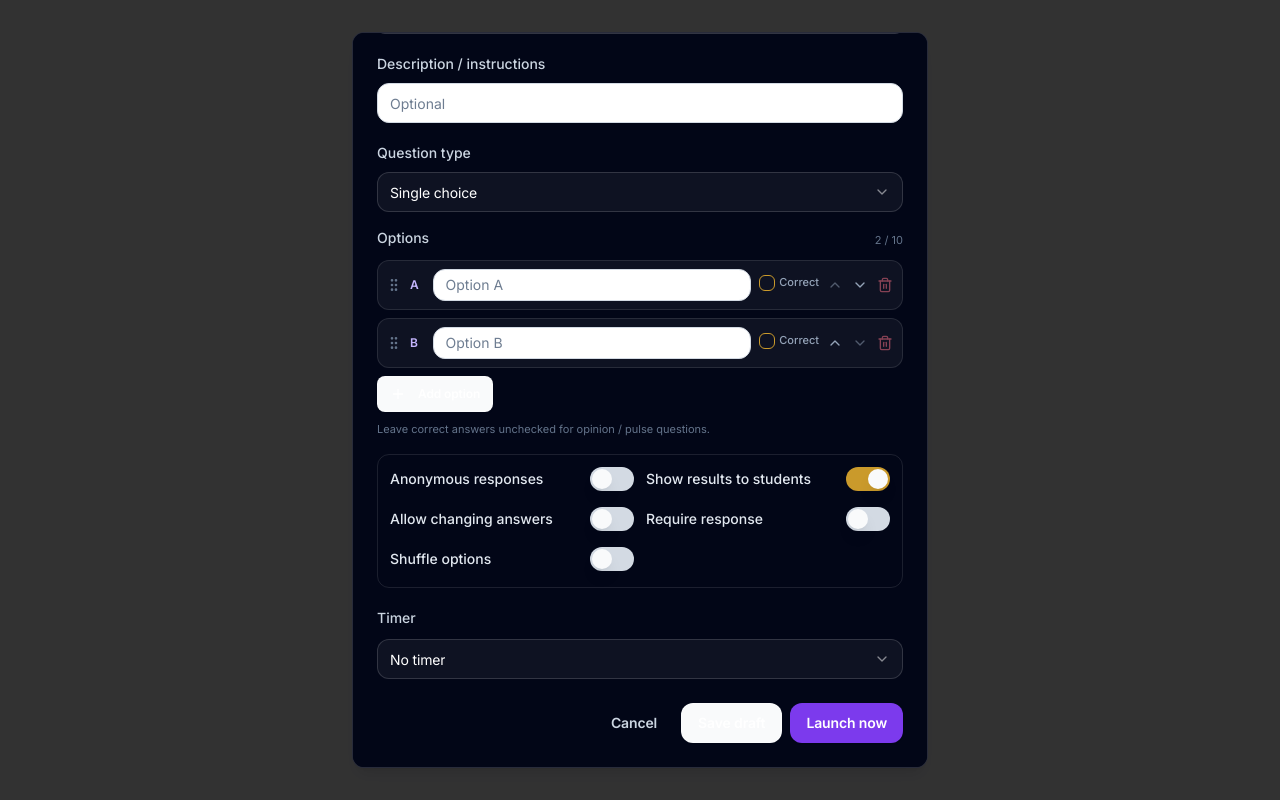
CreatePollDialog › shows an error for an empty question
(page scrolled)
Click the button "Save draft" at (732, 724), box x1=681 y1=704 x2=782 y2=744
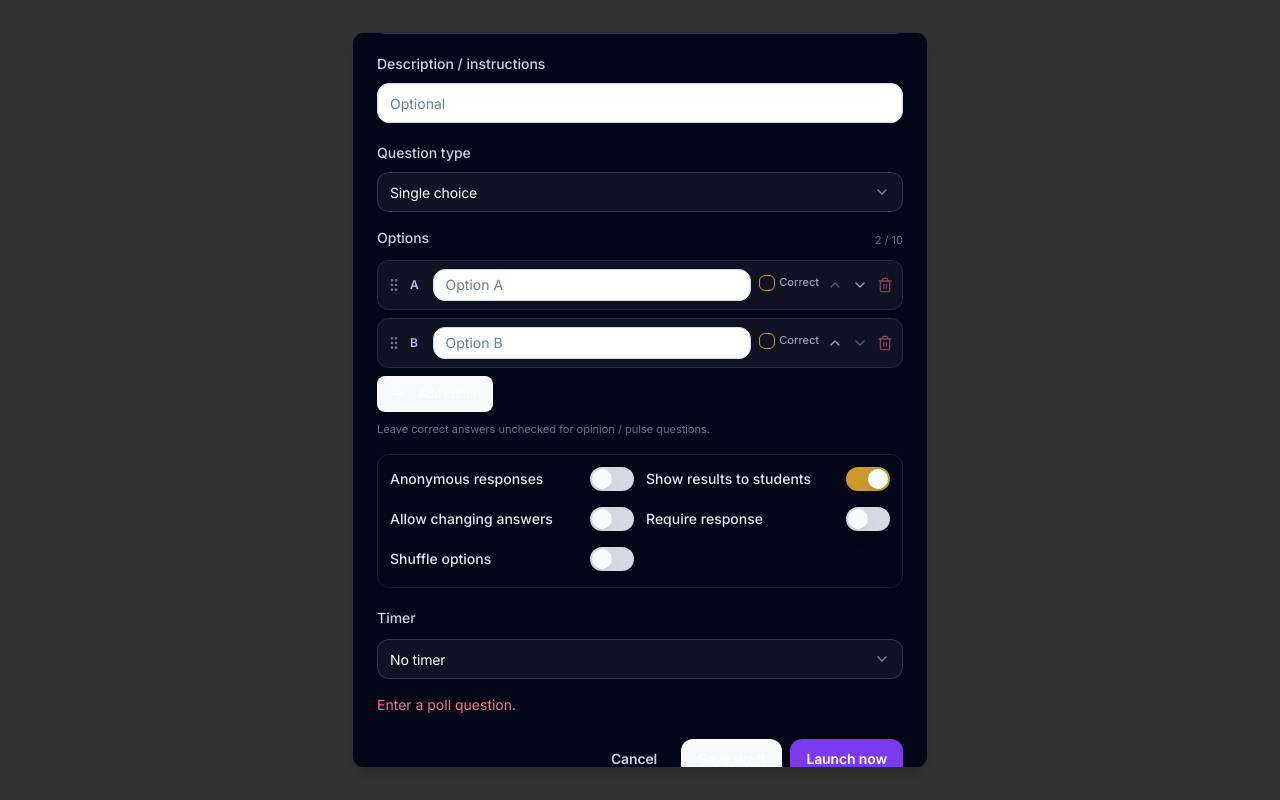
Expected: the text "Enter a poll question." is shown, x1=377 y1=696 x2=516 y2=714
